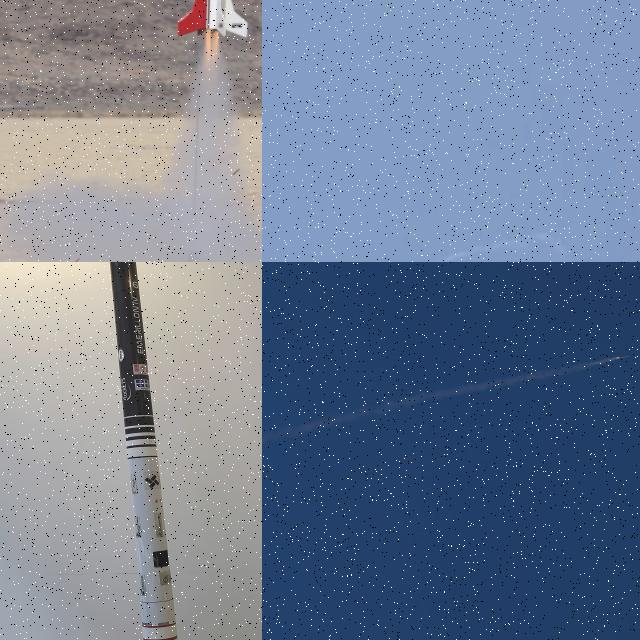Rocket: (109, 262, 178, 640), (618, 354, 630, 360)
